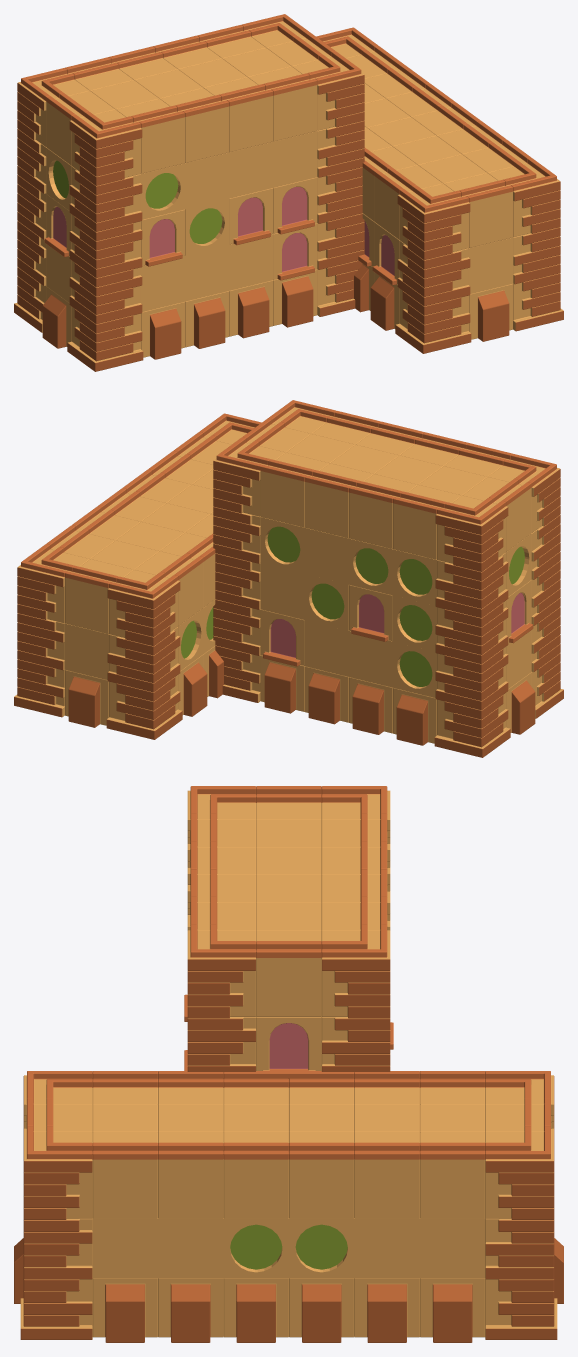
The model's file is house v3.014.fbx.
3 renders of one model, top to bottom at view 1: azimuth 30°, elevation 25°; view 2: azimuth 150°, elevation 25°; view 3: azimuth 270°, elevation 25°, orthographic. The views are drawn at different scales.
Visible parts, largest first — view 1: House; view 2: House; view 3: House.
Boxes of the visible parts, box(x1,y1,x2,y2) form: House: box(14, 14, 563, 371); House: box(14, 400, 563, 757); House: box(14, 786, 563, 1342).
Size of the model in its own units: 940 by 510 by 840.
